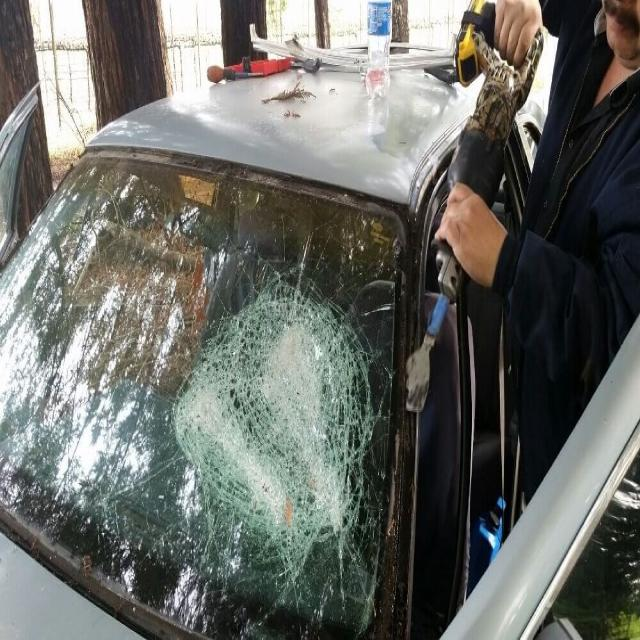crack: (166, 232, 392, 640)
